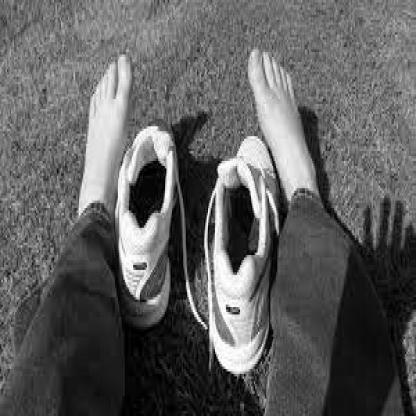ankle: (299, 185, 302, 190), (99, 198, 102, 203)
heel: (284, 195, 288, 201), (112, 214, 115, 217)
left_foot: (80, 55, 133, 220)
pinky: (289, 79, 293, 85), (93, 101, 96, 108)
right_foot: (249, 51, 323, 204)
toe: (254, 58, 259, 65), (123, 61, 127, 68)
